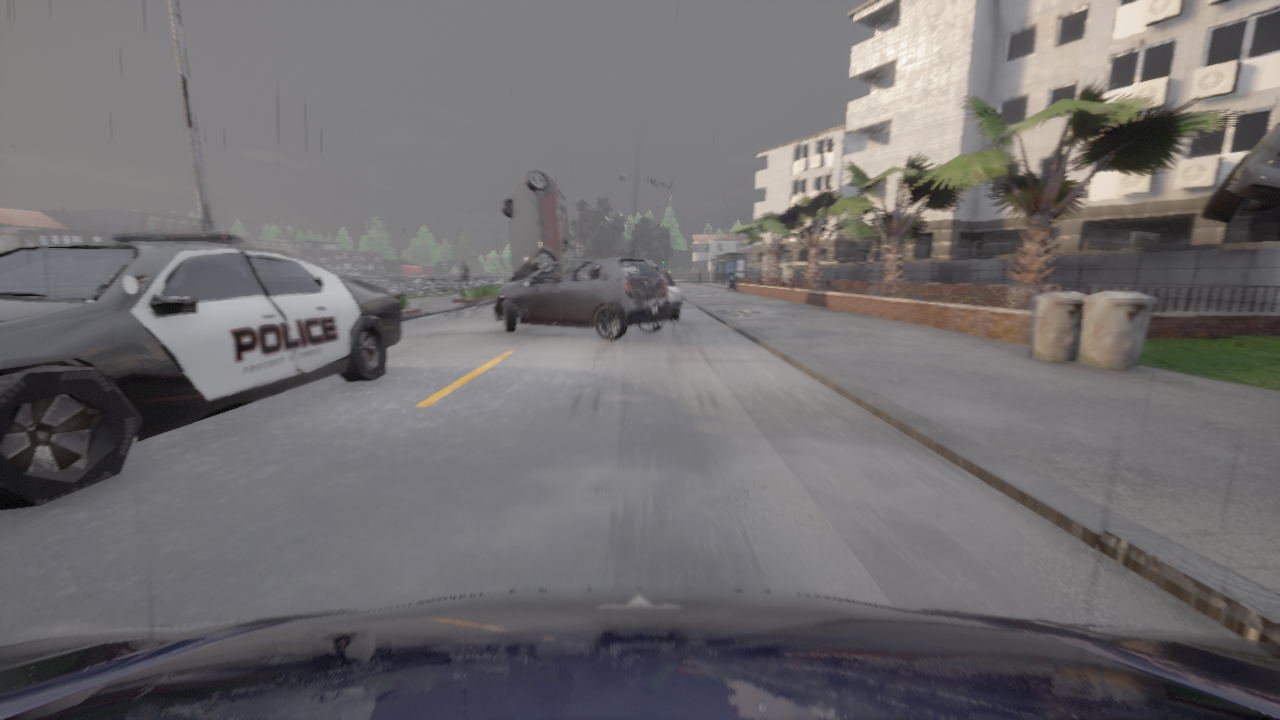cyclist: (0, 588, 1279, 719), (0, 233, 401, 510), (494, 257, 669, 340), (500, 168, 569, 283), (1201, 122, 1279, 222), (654, 270, 681, 319), (644, 259, 658, 269), (653, 268, 655, 269)
pedestrian: (458, 258, 470, 294)
